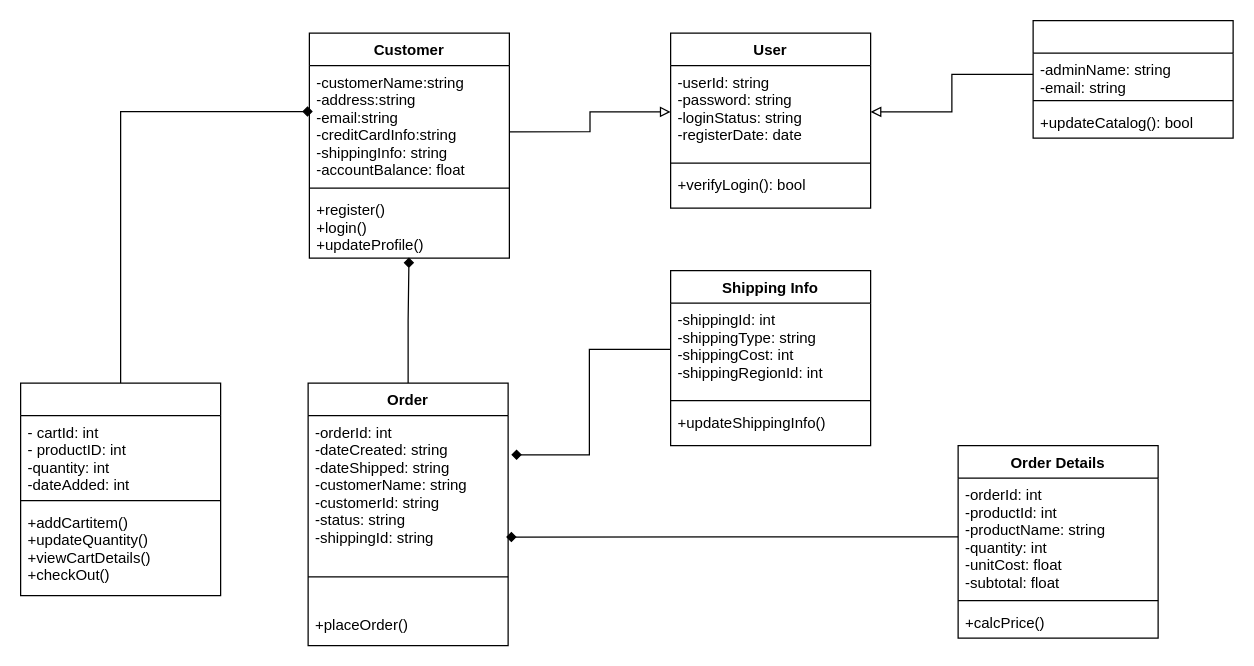
This 1254x666 diagram has some shape labels left out. Each missing label, with the box of its shape:
Administrator: (1032, 19, 1233, 138)
Shopping Cart: (19, 382, 221, 596)
